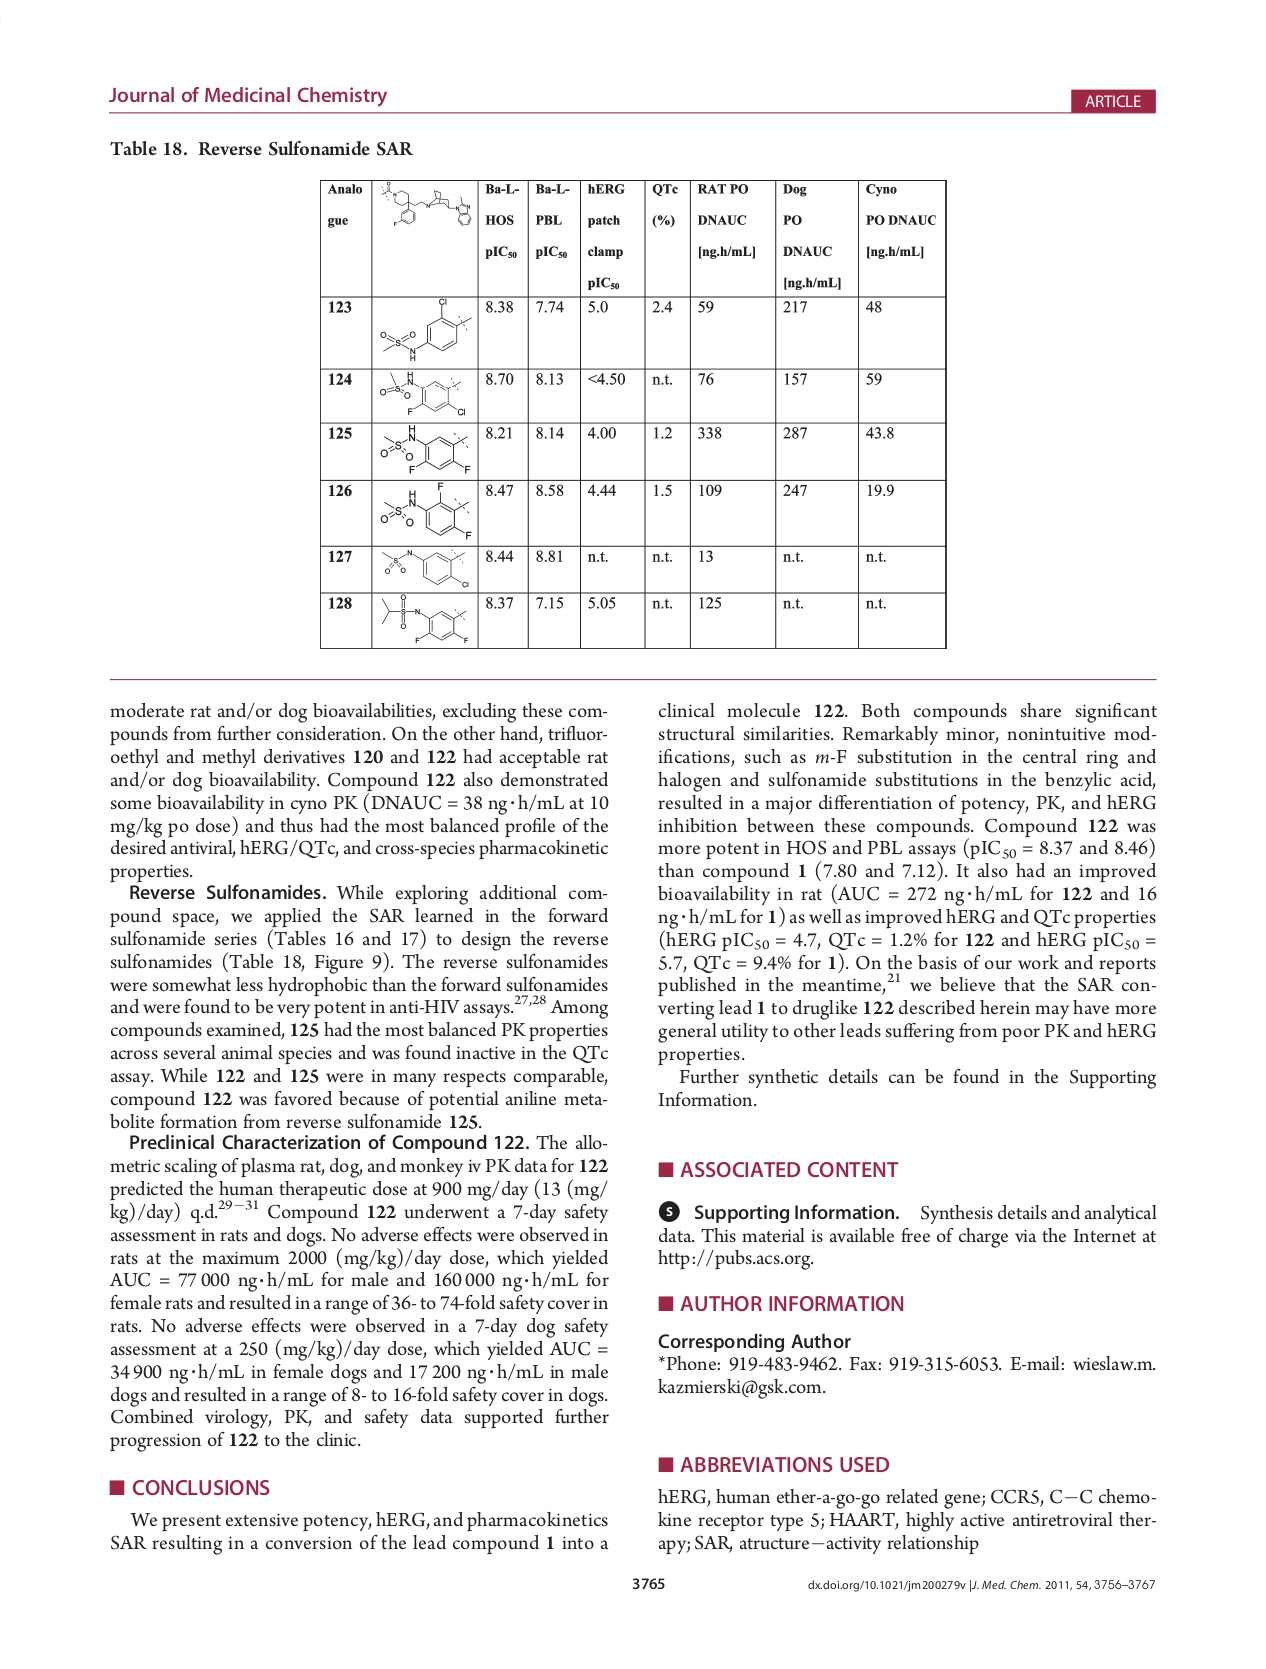exist_molecular: (380, 297, 473, 363), (376, 481, 472, 543), (376, 423, 473, 477), (376, 368, 469, 420), (378, 180, 473, 229), (379, 594, 473, 644), (382, 547, 472, 590)
